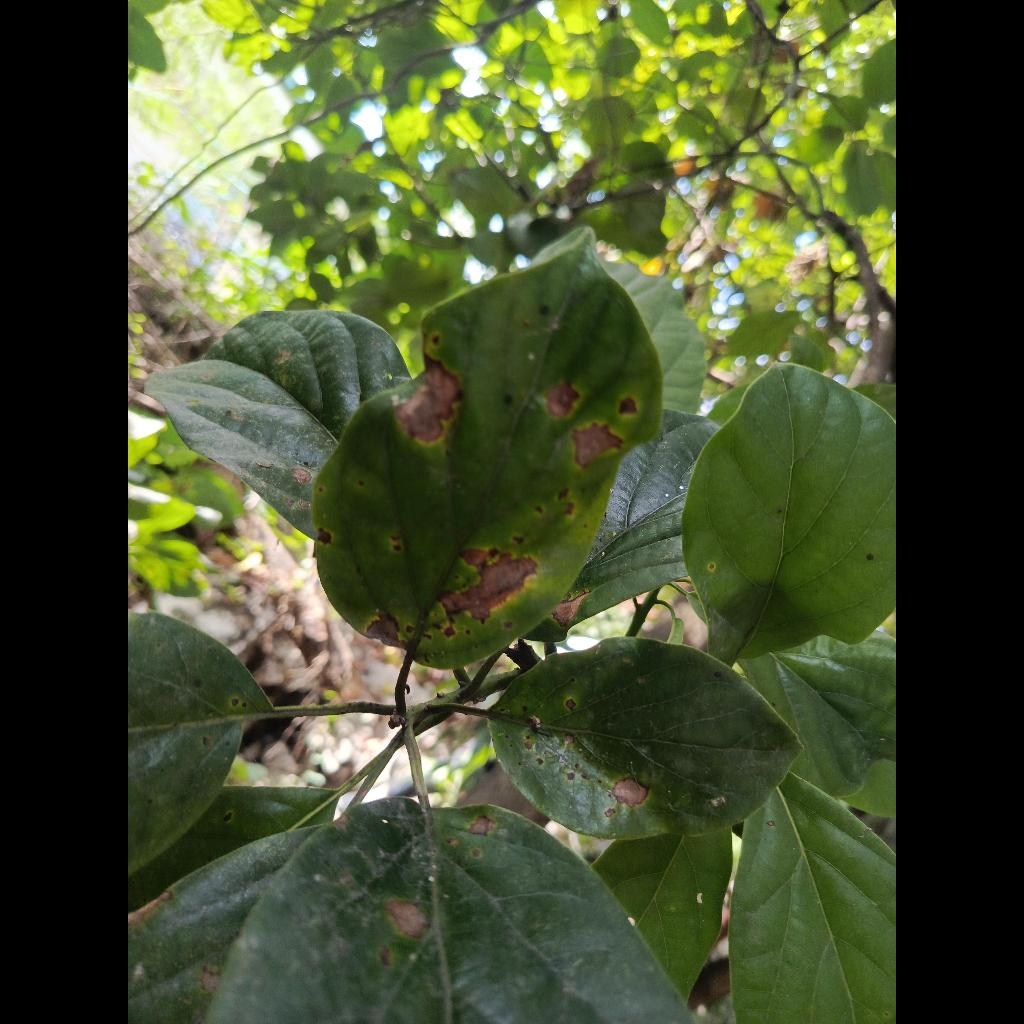Anthracnose: (313, 229, 662, 668)
